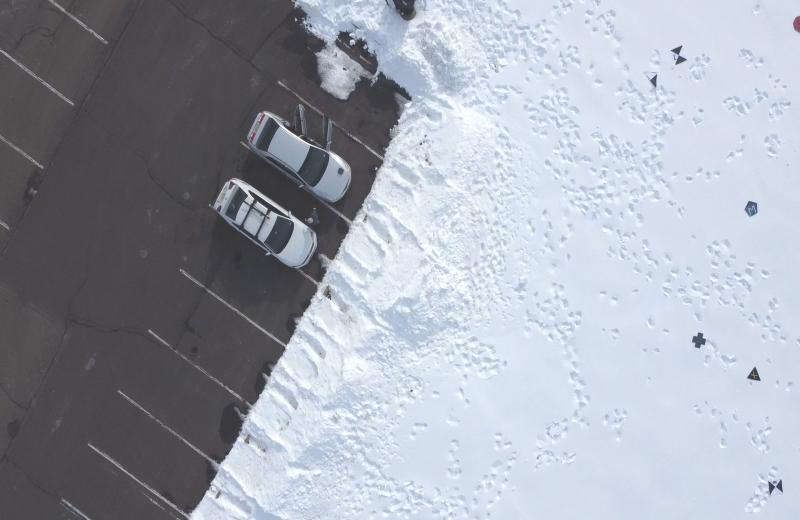Cross: (690, 330, 709, 350)
Octagon: (792, 14, 800, 34)
Pentagon: (744, 200, 759, 218)
Triangle: (746, 366, 762, 383)
